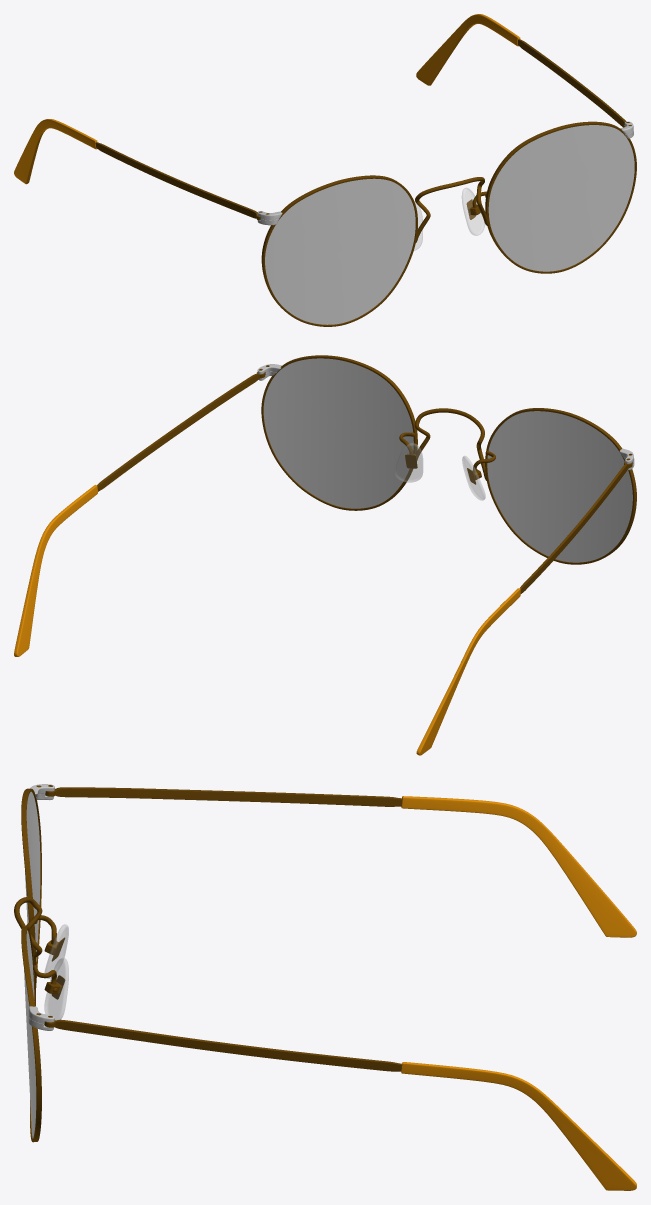
The picture shows the model from 3 angles, top to bottom: view 1: azimuth 30°, elevation 25°; view 2: azimuth 150°, elevation 25°; view 3: azimuth 270°, elevation 25°; orthographic projection. The views are drawn at different scales.
Parts seen in each view (by area): view 1: Cylinder_Cylinder.002; view 2: Cylinder_Cylinder.002; view 3: Cylinder_Cylinder.002.
Boxes of the visible parts, x1,y1,x2,y2 form: Cylinder_Cylinder.002: (14, 14, 636, 326); Cylinder_Cylinder.002: (14, 355, 636, 755); Cylinder_Cylinder.002: (14, 784, 636, 1190).
Size of the model in its own units: 9.71 by 3.17 by 9.4.
